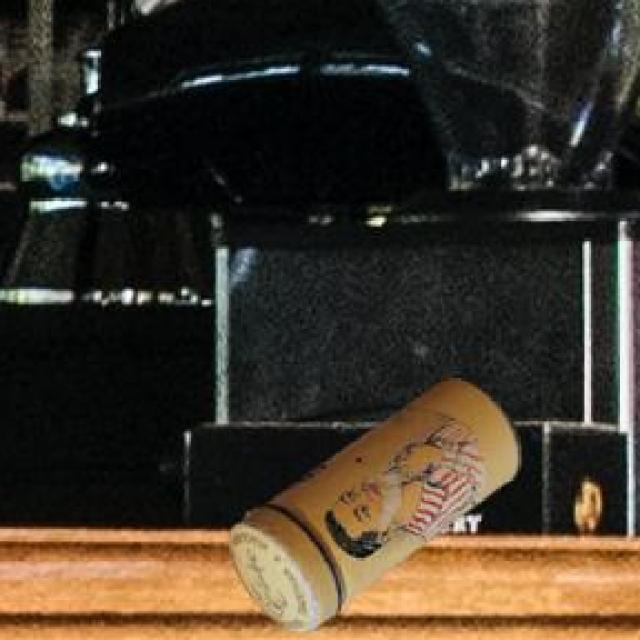logam: (228, 374, 519, 630)
